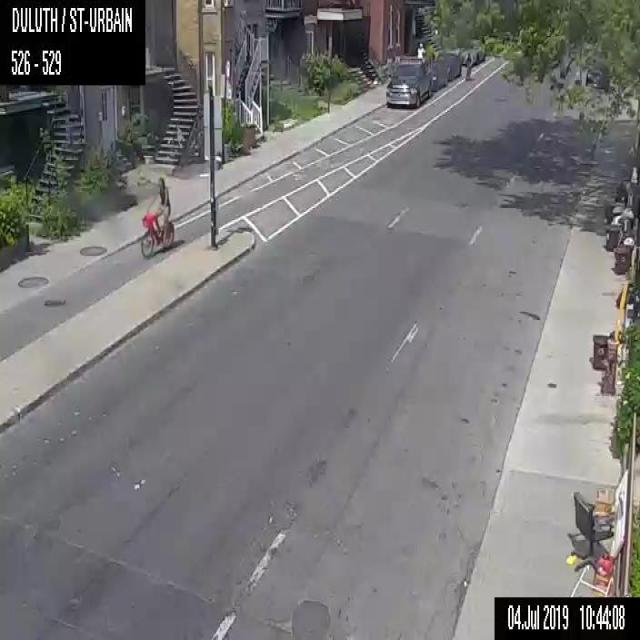cyclist: (141, 176, 174, 257), (464, 52, 472, 80)
pedestrian: (416, 41, 426, 60)
vehicle: (384, 58, 432, 108), (435, 51, 461, 77), (428, 58, 449, 88)
